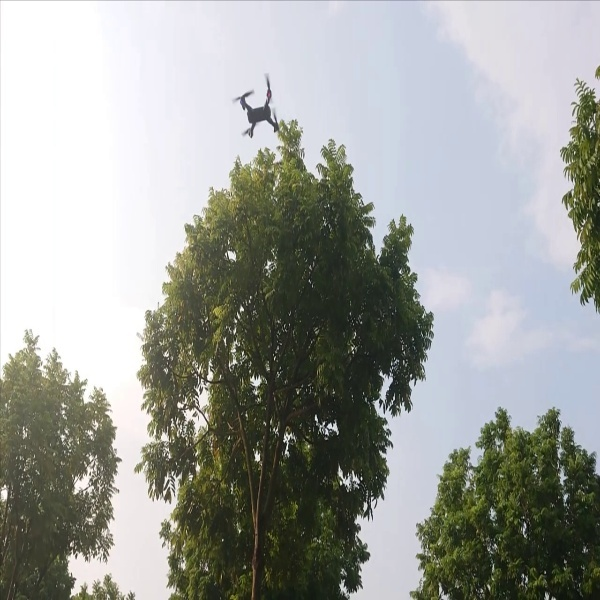drone: (231, 68, 283, 138)
